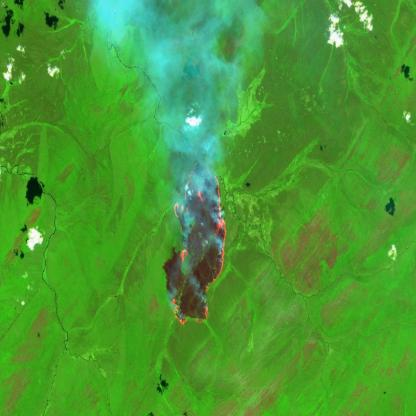fire: (168, 158, 228, 328)
